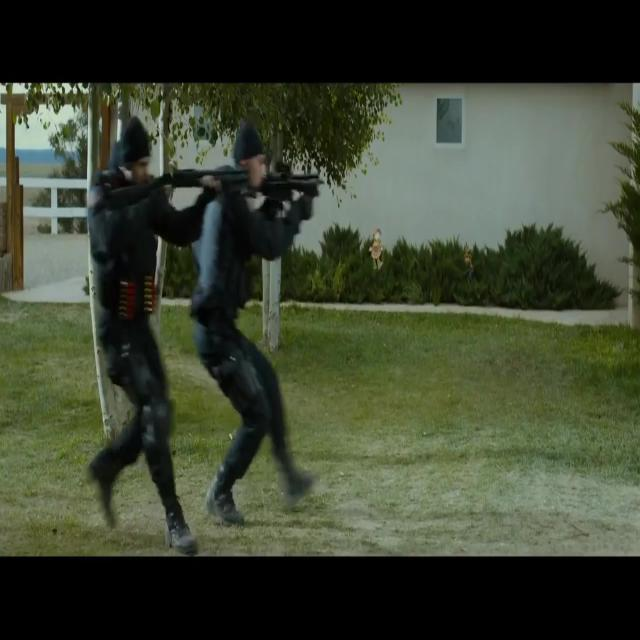Weapon: (79, 86, 344, 429)
